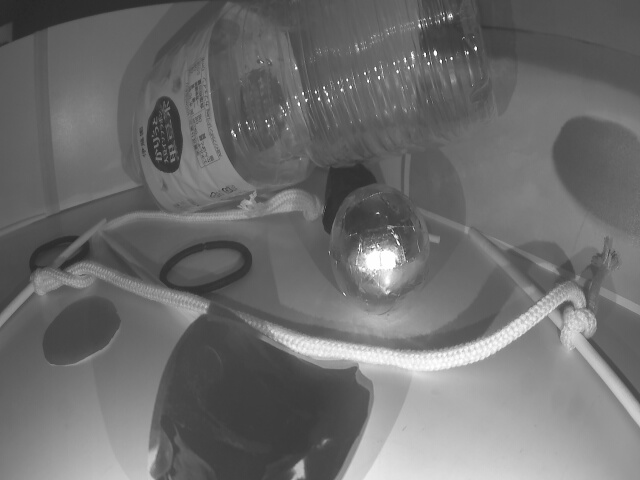Dead: (325, 160, 381, 228)
Live: (333, 181, 429, 305)
